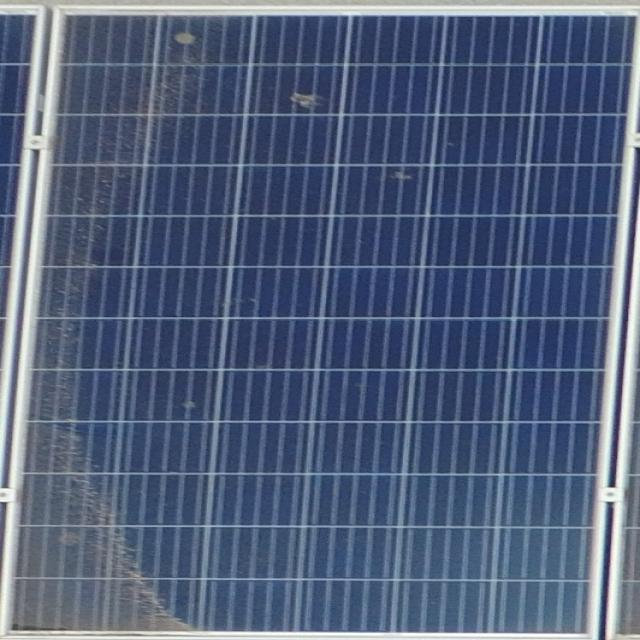Dust: (22, 16, 250, 634)
bird-droppings: (148, 18, 214, 54), (285, 84, 327, 116), (175, 391, 208, 411), (385, 167, 412, 185)
